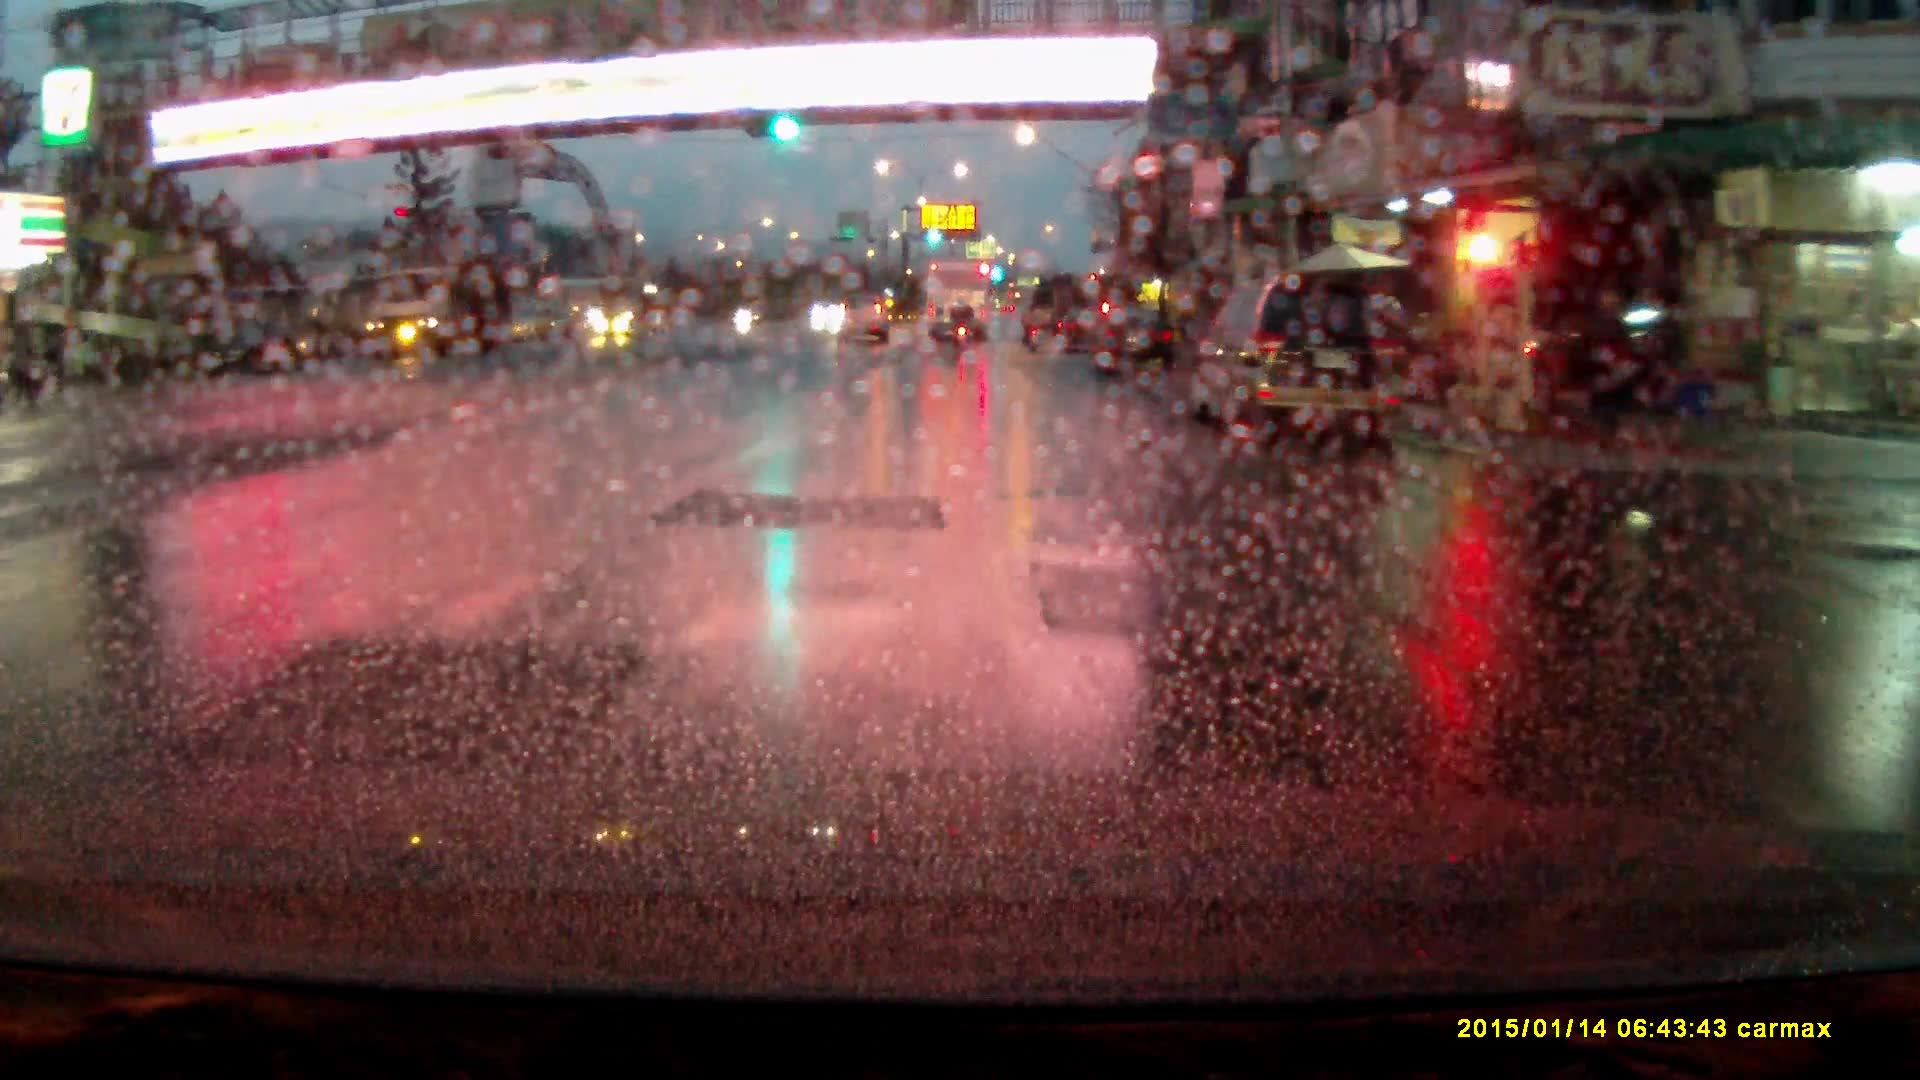rider: (950, 292, 975, 352)
vehicle: (1188, 276, 1408, 442), (1539, 292, 1673, 414), (357, 262, 504, 362), (925, 260, 993, 338), (1094, 308, 1178, 371), (592, 283, 672, 341), (837, 294, 895, 343), (1064, 305, 1111, 352)
